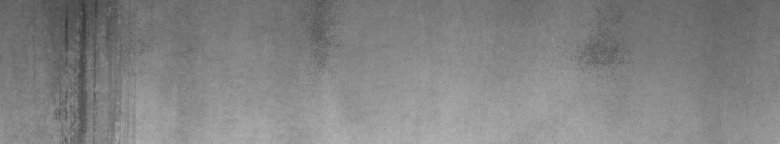ka: (48, 4, 122, 136)
